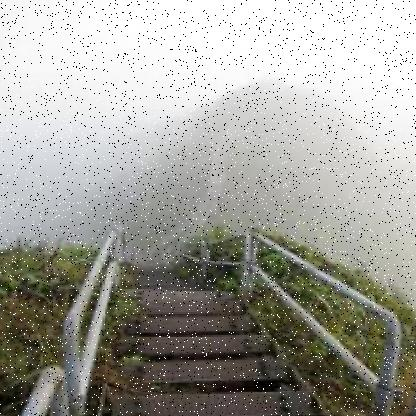stair_down: (116, 317, 311, 416)
